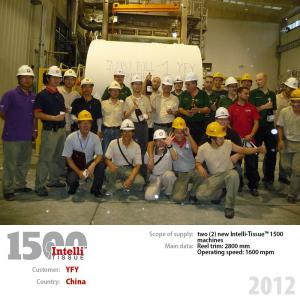none: (256, 73, 269, 91), (204, 76, 215, 92), (152, 77, 162, 92)
white: (17, 65, 35, 90), (121, 120, 137, 143), (47, 67, 62, 89), (216, 107, 230, 129), (154, 130, 169, 150), (64, 69, 78, 89), (185, 72, 199, 92), (81, 78, 95, 96), (226, 77, 239, 96), (285, 79, 299, 96), (109, 82, 122, 100), (132, 76, 144, 94), (115, 70, 126, 86), (163, 78, 174, 94), (175, 76, 185, 93)
yellow: (207, 123, 226, 148), (78, 112, 94, 137), (172, 118, 188, 143), (291, 90, 300, 112), (242, 75, 255, 90), (214, 73, 224, 90)
